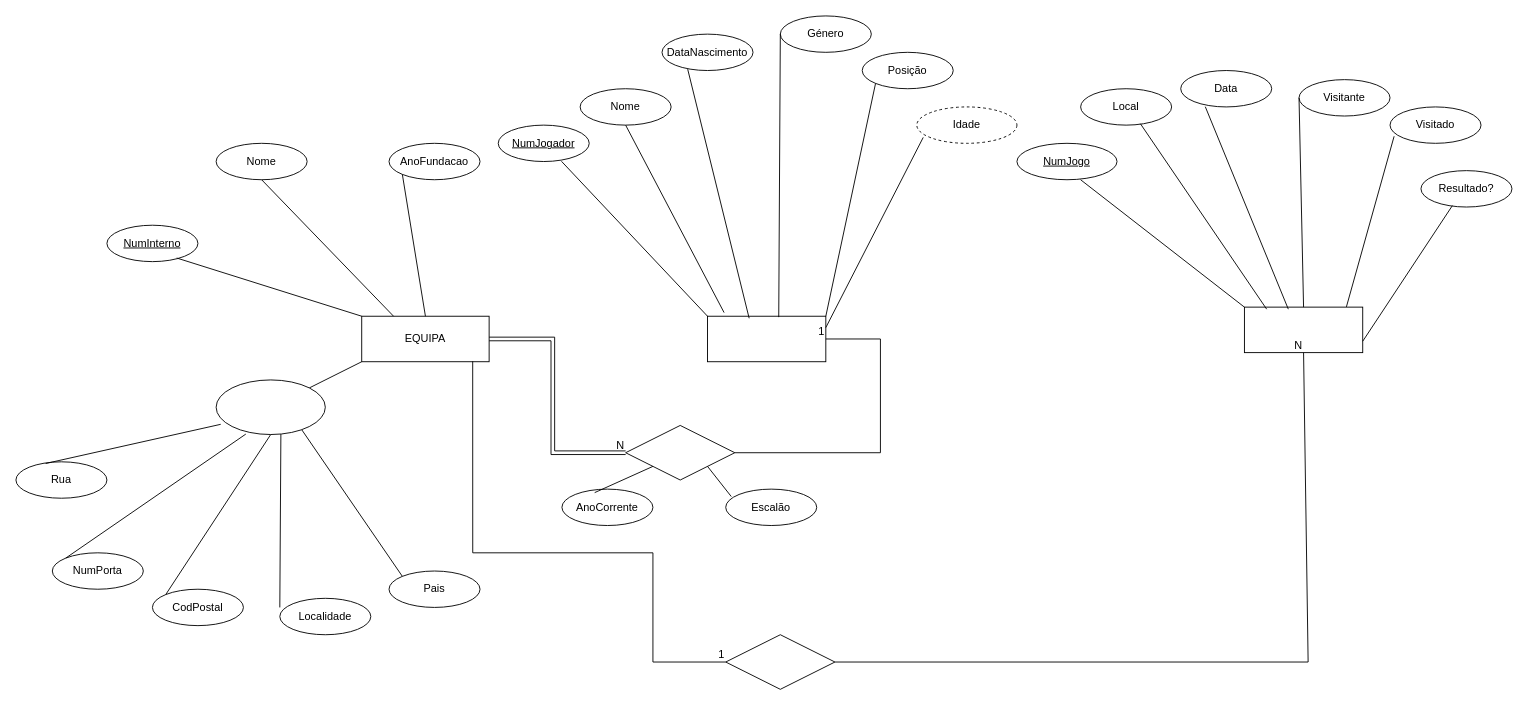
The diagram is 1528 pixels wide and 705 high, and some of its shapes have lost their labels. The shapes that lost their labels are listed below. From the top down, each one's centre as x and y in pixels, then its label:
At [766,338]: "JOGADOR".
At [1303,329]: "JOGO".
At [270,407]: "Morada".
At [680,452]: "FILIADO_A".
At [780,661]: "JOGOU".
